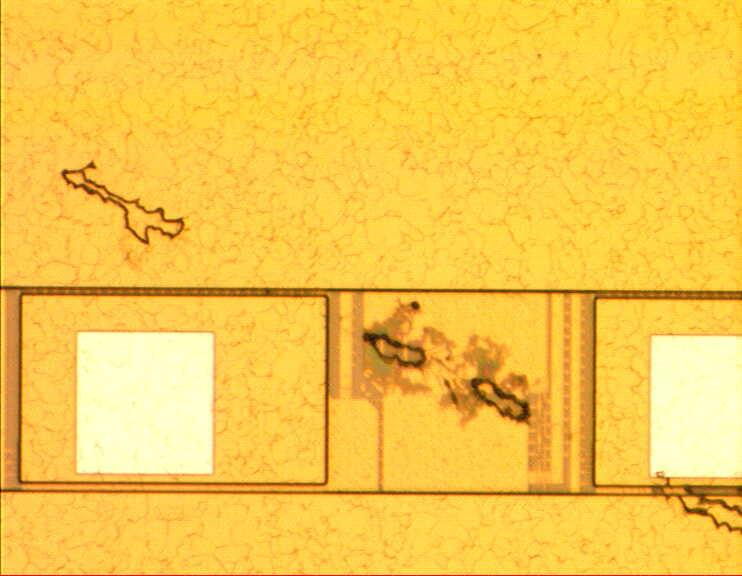SCRATCH: (53, 147, 742, 547)
